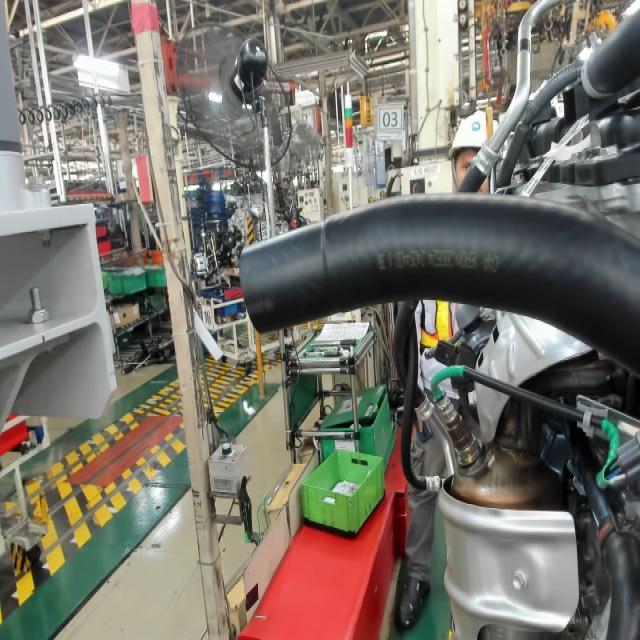Hose Radiator-PC: (243, 290, 278, 325)
